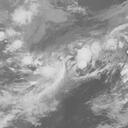cyclone: (21, 52, 68, 97)
